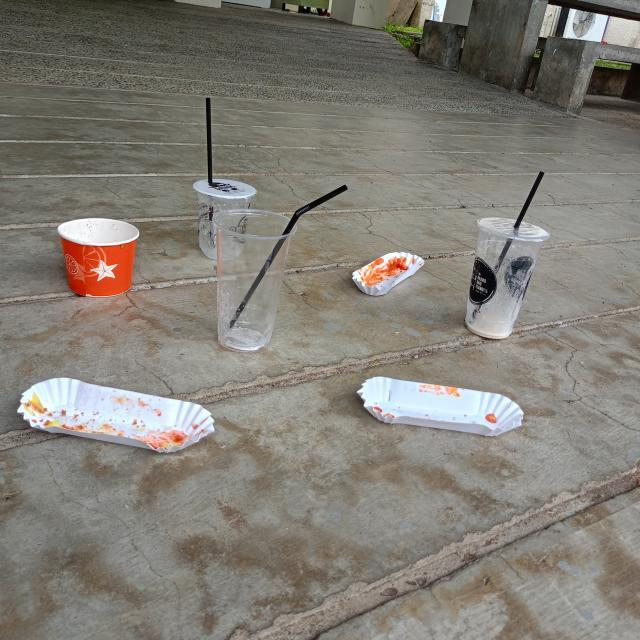recyclable waste: (12, 371, 222, 464), (203, 200, 304, 357), (348, 366, 530, 441), (454, 211, 556, 344), (49, 210, 148, 304), (186, 166, 261, 268), (344, 244, 431, 302)
